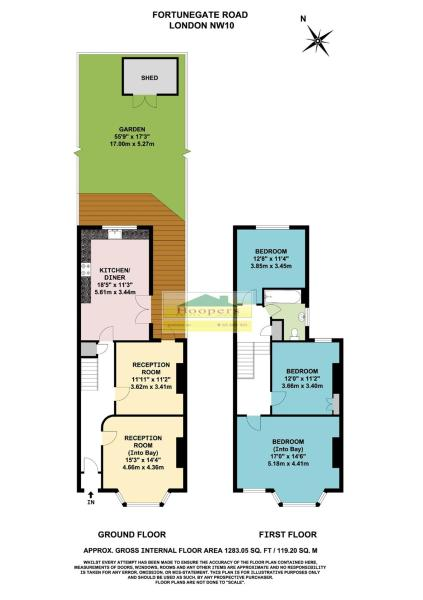GardenMeasurements: (108, 121, 157, 149)
GrossArea: (82, 544, 322, 556)
